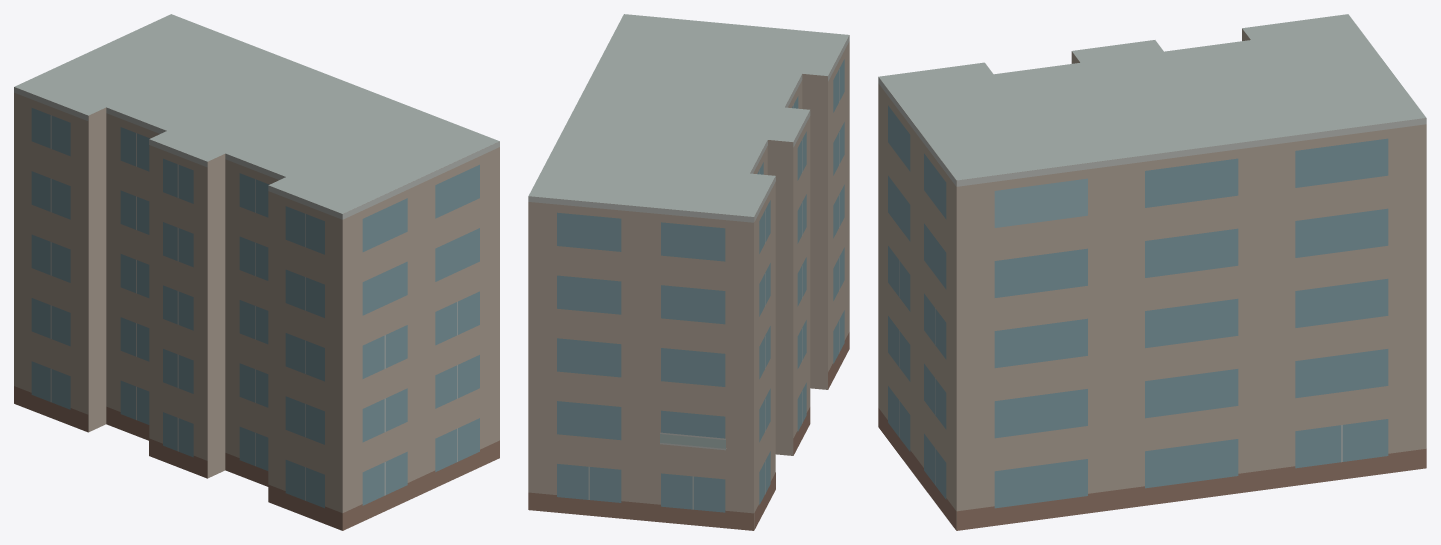
File: survey-upis-32612237.glb
3 renders of one model, left to right at view 1: azimuth 30°, elevation 25°; view 2: azimuth 150°, elevation 25°; view 3: azimuth 270°, elevation 25°, orthographic. The views are drawn at different scales.
Parts seen in each view (by area): view 1: survey-upis-32612237.tmp; view 2: survey-upis-32612237.tmp; view 3: survey-upis-32612237.tmp.
Boxes of the visible parts, x1=… form: survey-upis-32612237.tmp: x1=14, y1=14, x2=499, y2=530; survey-upis-32612237.tmp: x1=528, y1=14, x2=849, y2=530; survey-upis-32612237.tmp: x1=878, y1=14, x2=1426, y2=530.
Size of the model in its own units: 13.72 by 13.45 by 19.08.
